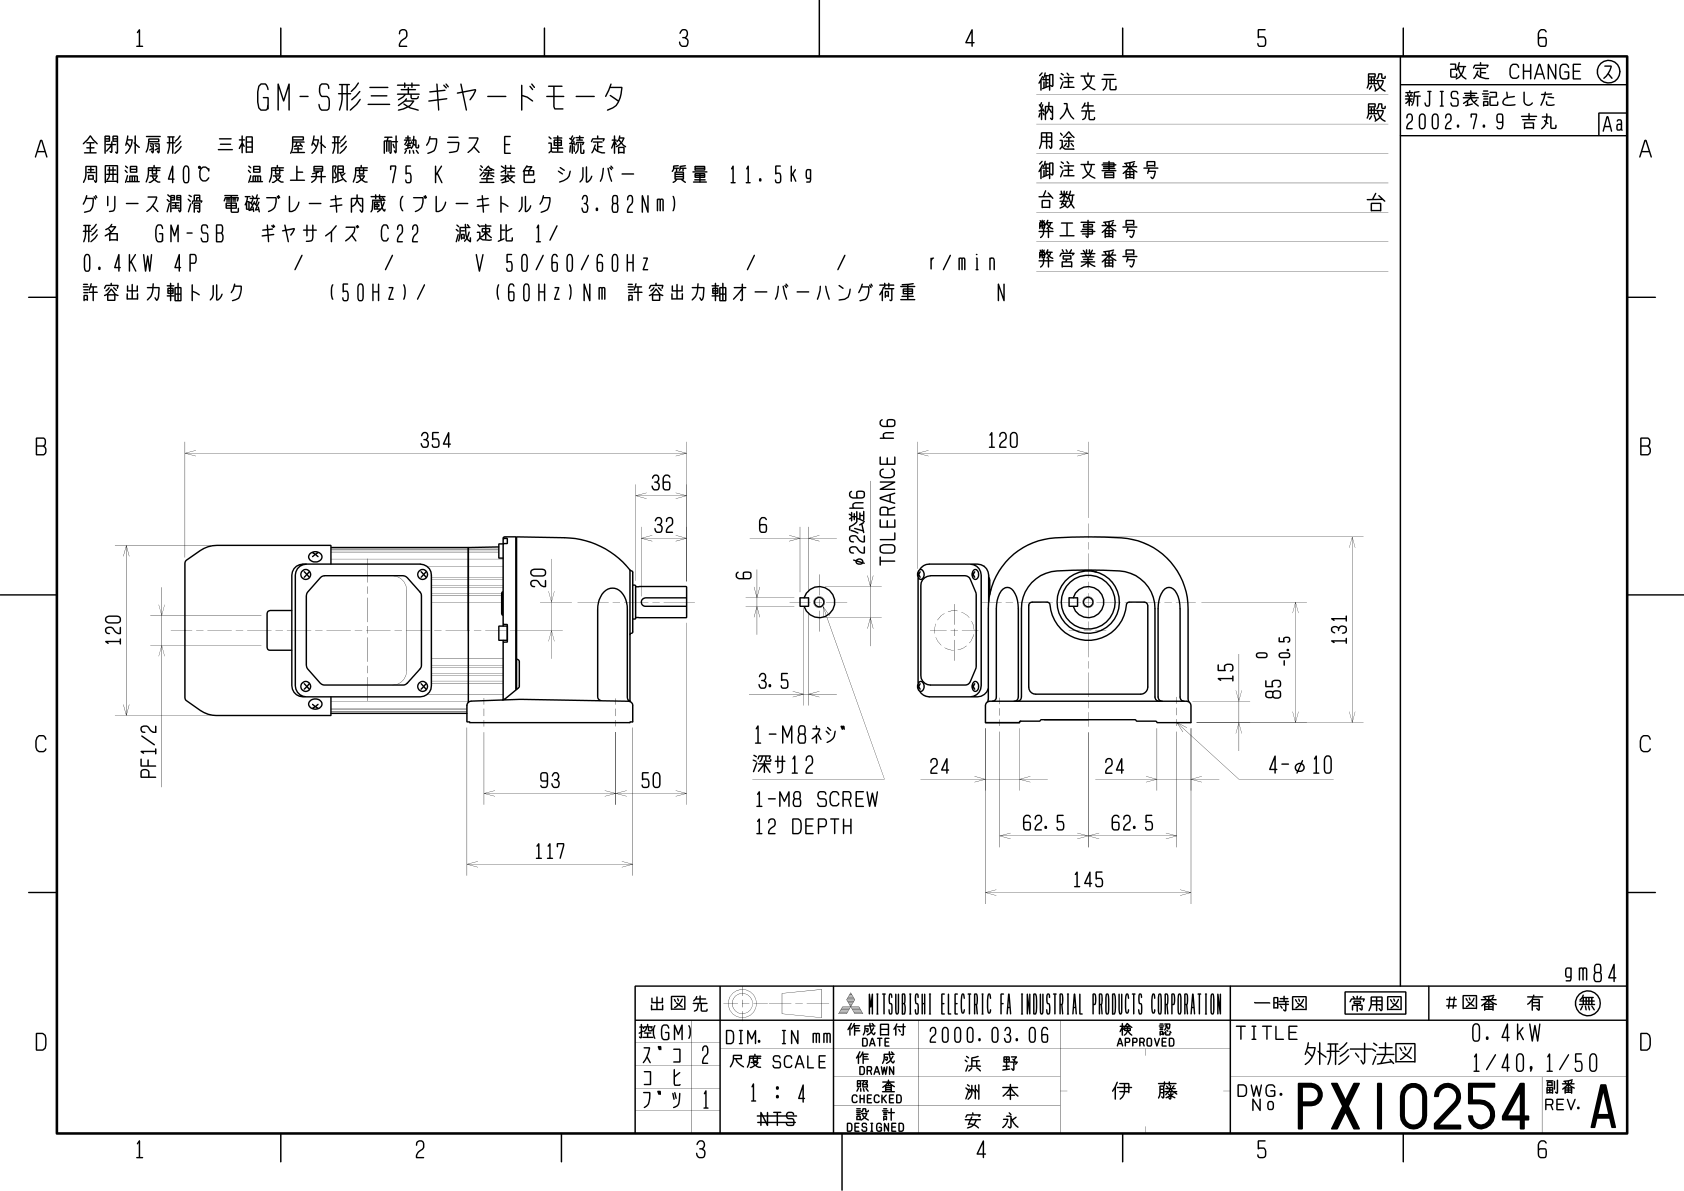GM_S_屋外＿三相_脚: (4, 6, 1684, 1191)
